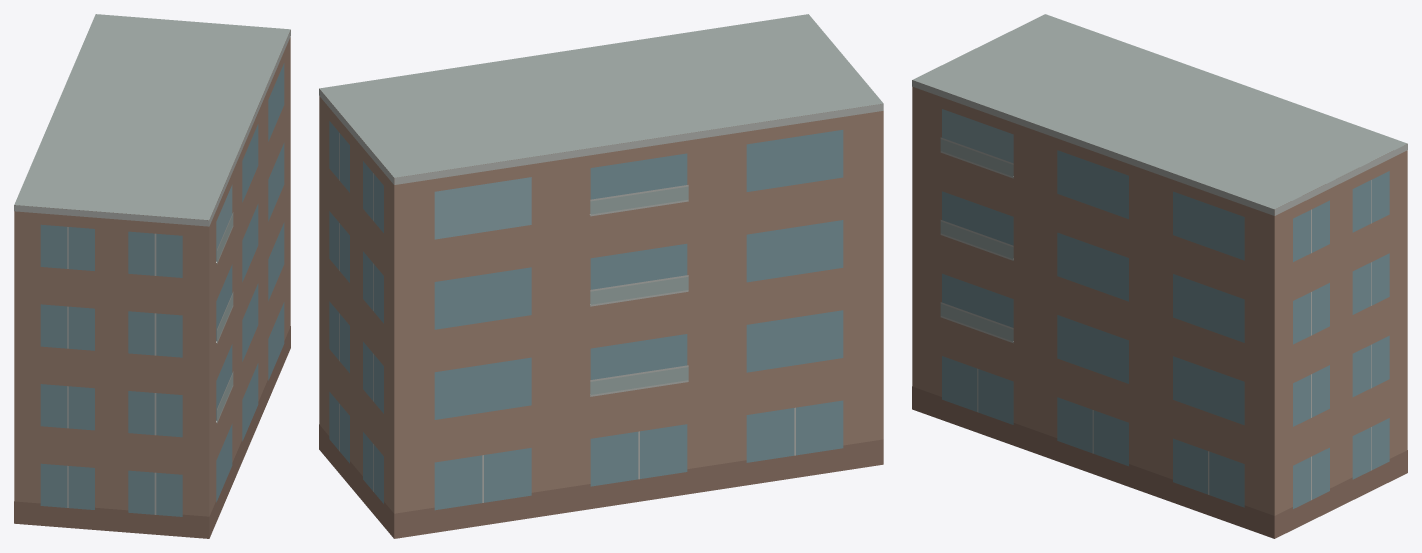
The model's file is survey-upis-32819044.glb.
The picture shows the model from 3 angles, left to right: view 1: azimuth 30°, elevation 25°; view 2: azimuth 150°, elevation 25°; view 3: azimuth 270°, elevation 25°; orthographic projection. The views are drawn at different scales.
Visible parts, largest first — view 1: survey-upis-32819044.tmp; view 2: survey-upis-32819044.tmp; view 3: survey-upis-32819044.tmp.
Part boxes in pixels (box(x1,y1,x2,y2)): survey-upis-32819044.tmp: box(14, 14, 290, 538); survey-upis-32819044.tmp: box(319, 14, 883, 538); survey-upis-32819044.tmp: box(912, 14, 1407, 538).
Size of the model in its own units: 15.53 by 12.2 by 16.64.
